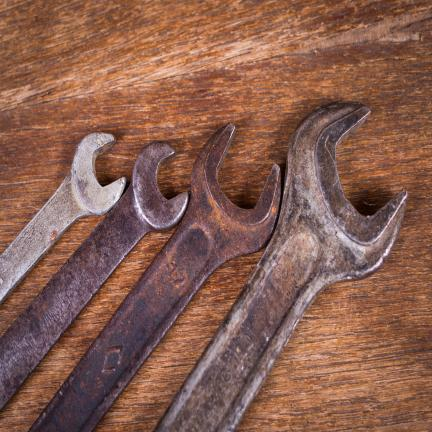besi_tidak_karat: (0, 133, 126, 303)
karat: (0, 101, 408, 432), (131, 142, 188, 231)
